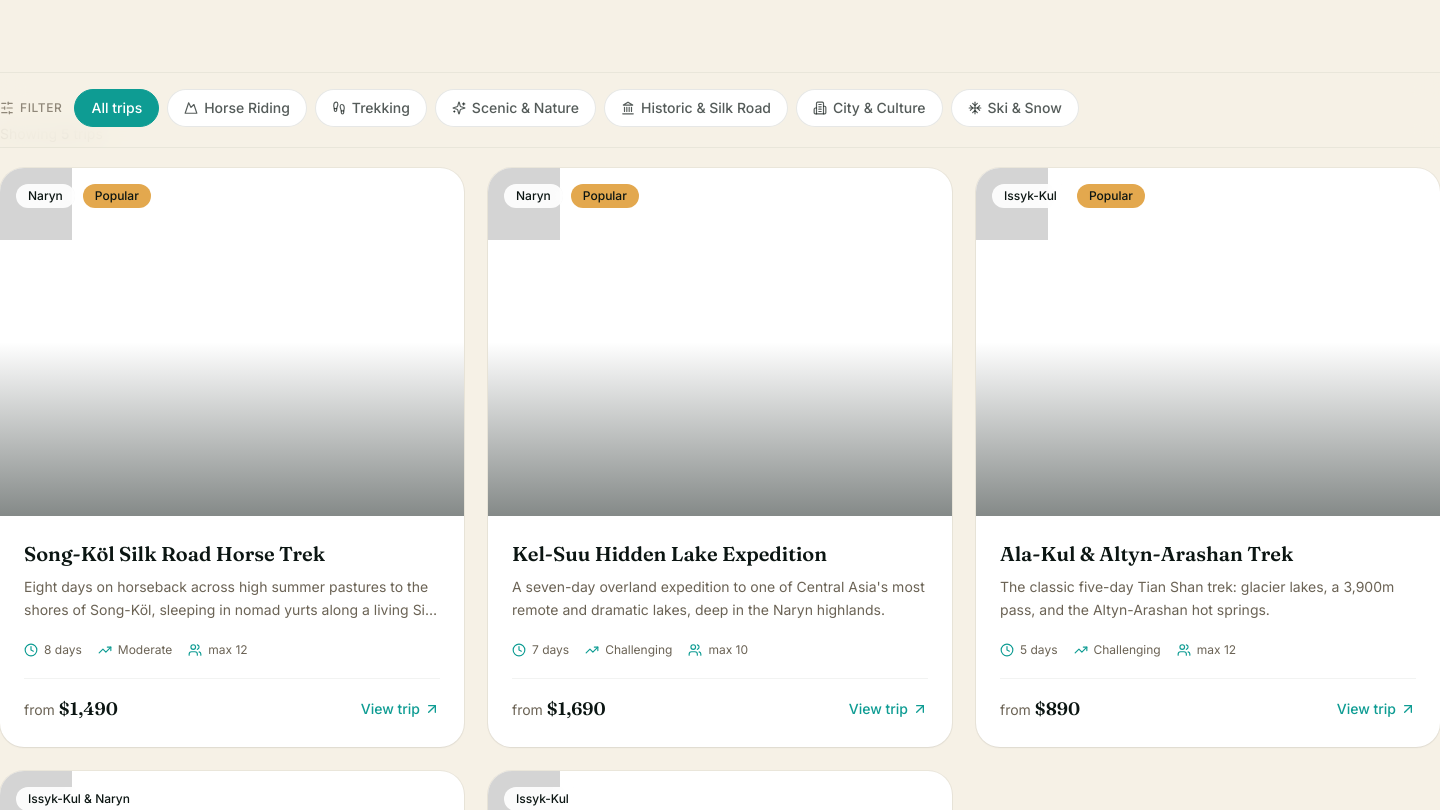
Test case: TripsExplorer › filters trips when a category chip is clicked
Click the button "Horse Riding" at (237, 108), box [167,89,307,127]
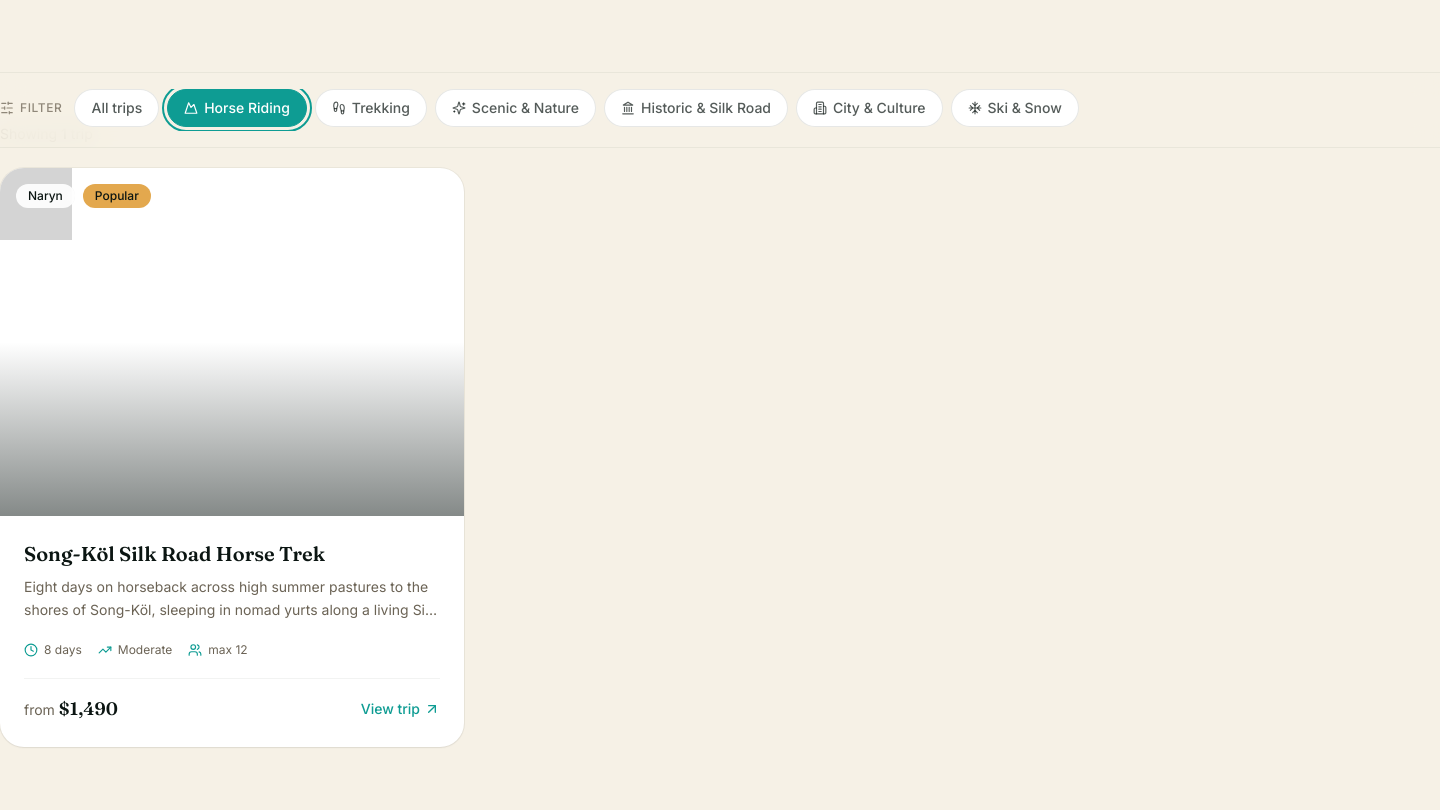
Expected: the heading "Song-Köl Silk Road Horse Trek" is shown, [24,541,325,566]
Now the link "Kel-Suu Hidden Lake Expedition" is gone
Now the link "Ala-Kul & Altyn-Arashan Trek" is gone
